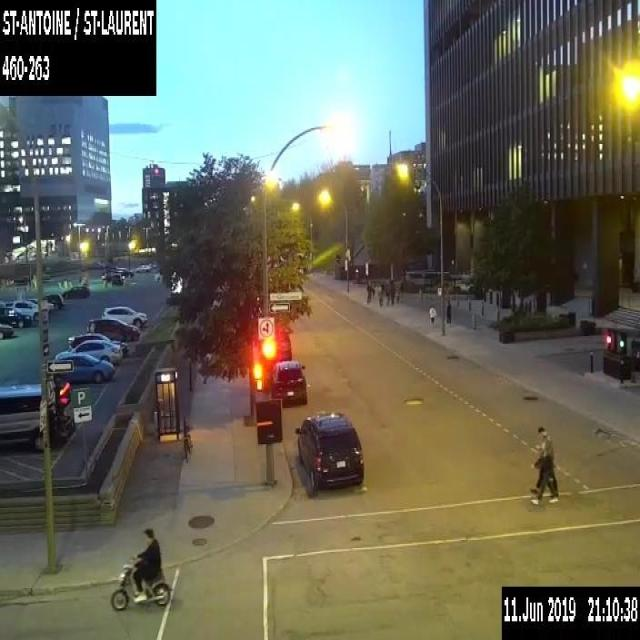pedestrian: (530, 434, 558, 504), (528, 424, 551, 496), (444, 296, 451, 329), (428, 304, 435, 328), (384, 281, 390, 305), (366, 280, 372, 303), (390, 281, 396, 304), (378, 282, 383, 306), (395, 287, 400, 305)
vehicle: (293, 408, 364, 495), (109, 524, 170, 612), (0, 381, 75, 450), (51, 351, 114, 383), (270, 358, 306, 406), (54, 339, 122, 364), (68, 332, 128, 354), (86, 317, 138, 340), (101, 305, 147, 327), (4, 299, 38, 320), (0, 306, 31, 326), (273, 330, 291, 360), (42, 292, 64, 309), (62, 285, 90, 298), (26, 297, 53, 309), (102, 268, 124, 280), (0, 323, 14, 337), (116, 266, 134, 276), (111, 272, 123, 284), (135, 264, 151, 272), (152, 270, 160, 282)
